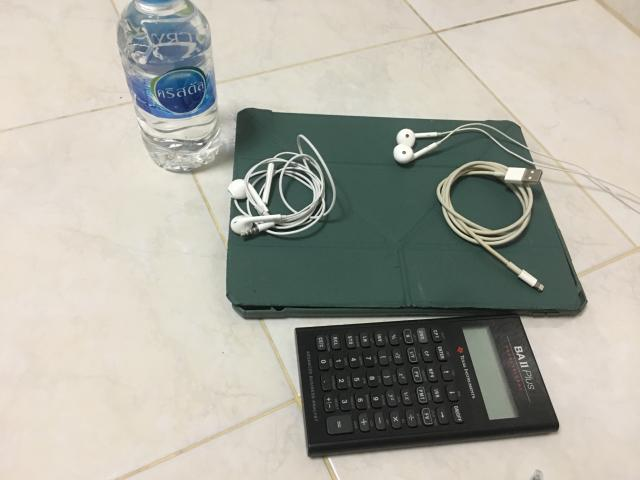bottle: (118, 0, 220, 171)
wire: (392, 122, 640, 214), (436, 161, 544, 291), (228, 134, 336, 238)
